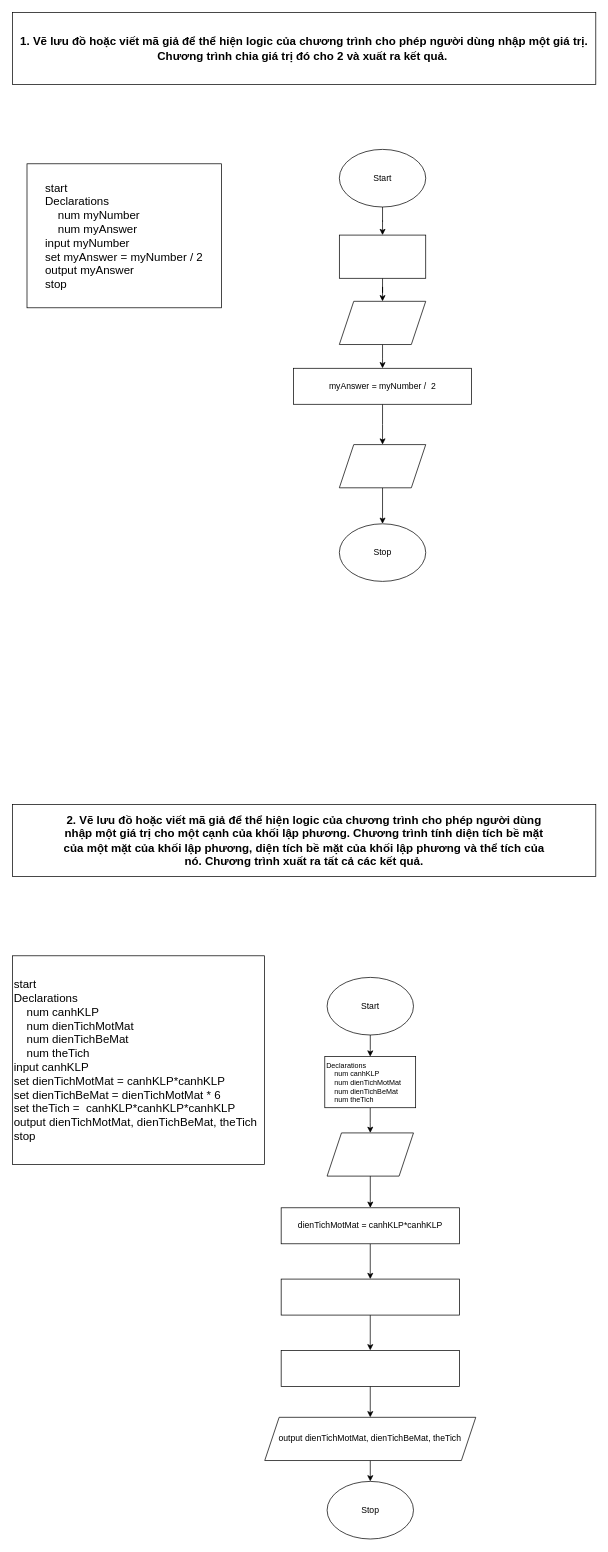
Image size: 608x1552. Some labels were removed from this diagram. The shapes that lost their labels are listed below. From the top down, each one's centre as x and y in pixels, then its label:
point (382, 256): Declarations num myNumber num myAnswer
point (382, 323): input myNumber
point (382, 466): output myAnswer
point (369, 1154): input canhKLP
point (369, 1296): dienTichBeMat = dienTichMotMat * 6
point (369, 1368): theTich = canhKLP*canhKLP*canhKLP
